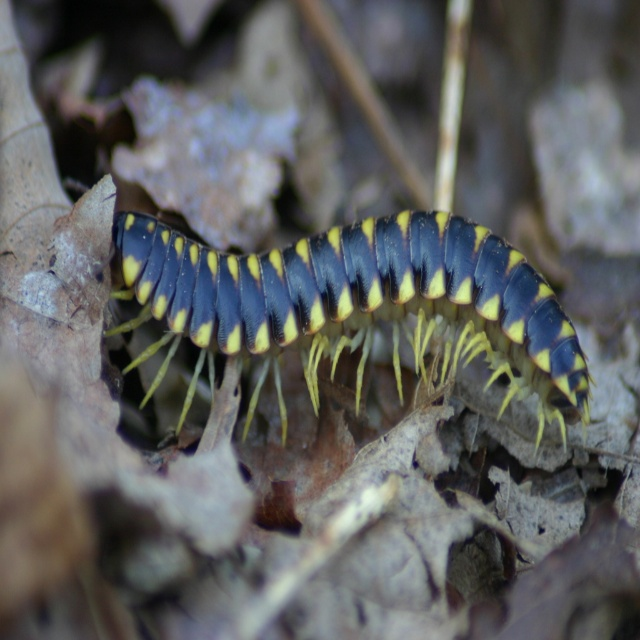Centipede: (2, 203, 600, 456)
